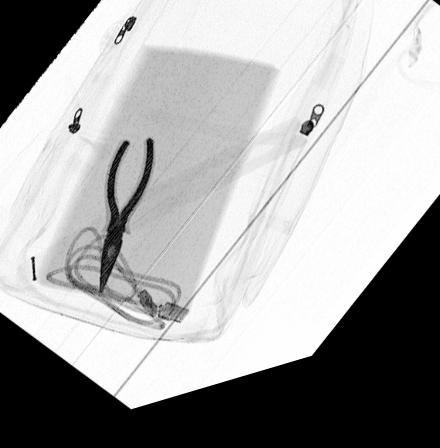Pliers: (96, 142, 154, 301)
